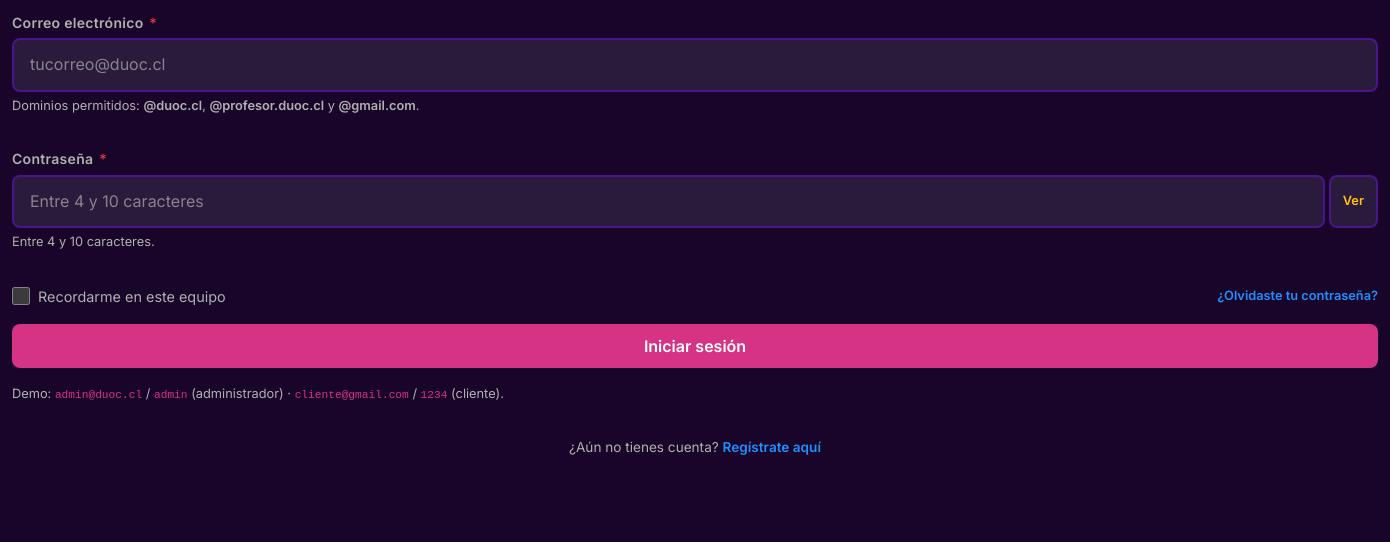
Test case: <FormularioLogin /> › EVENTOS: credenciales incorrectas muestran "Credenciales inválidas." y no abren sesión
The image size is (1390, 542).
Type "admin@duoc.cl" into the field labelled "Correo electrónico *" at [695, 65], box [12,38,1378,92]
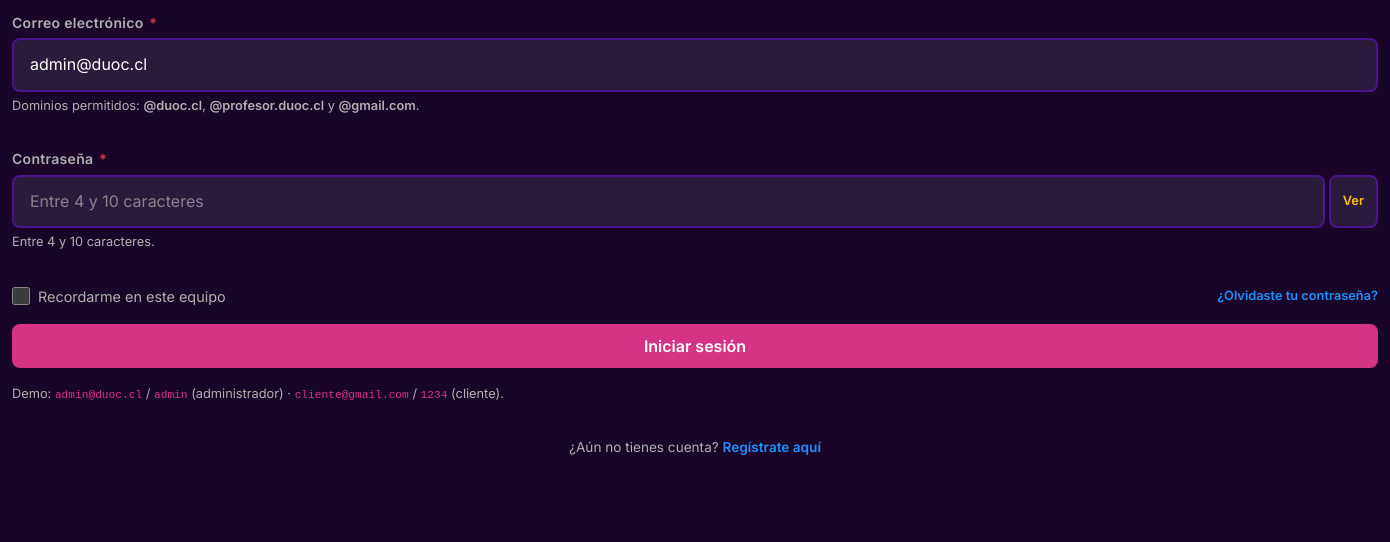
Type "mala1" into the password field labelled "Contraseña *" at [668, 202], box [12,175,1325,228]
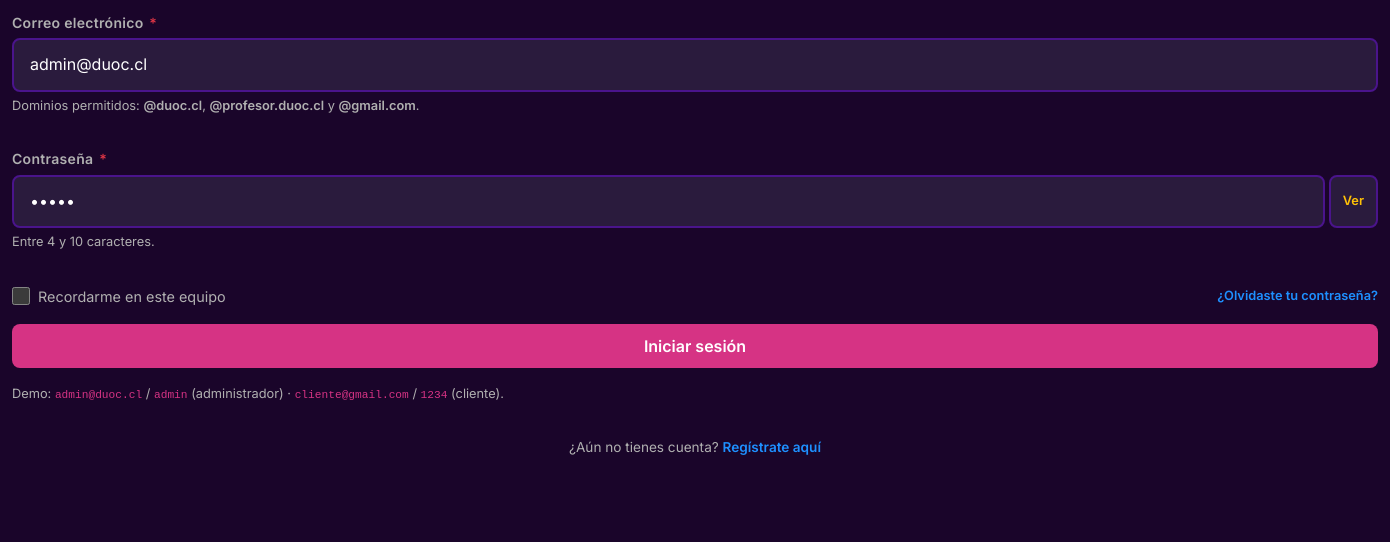
Click the button "Iniciar sesión" at [695, 346], box [12,324,1378,368]
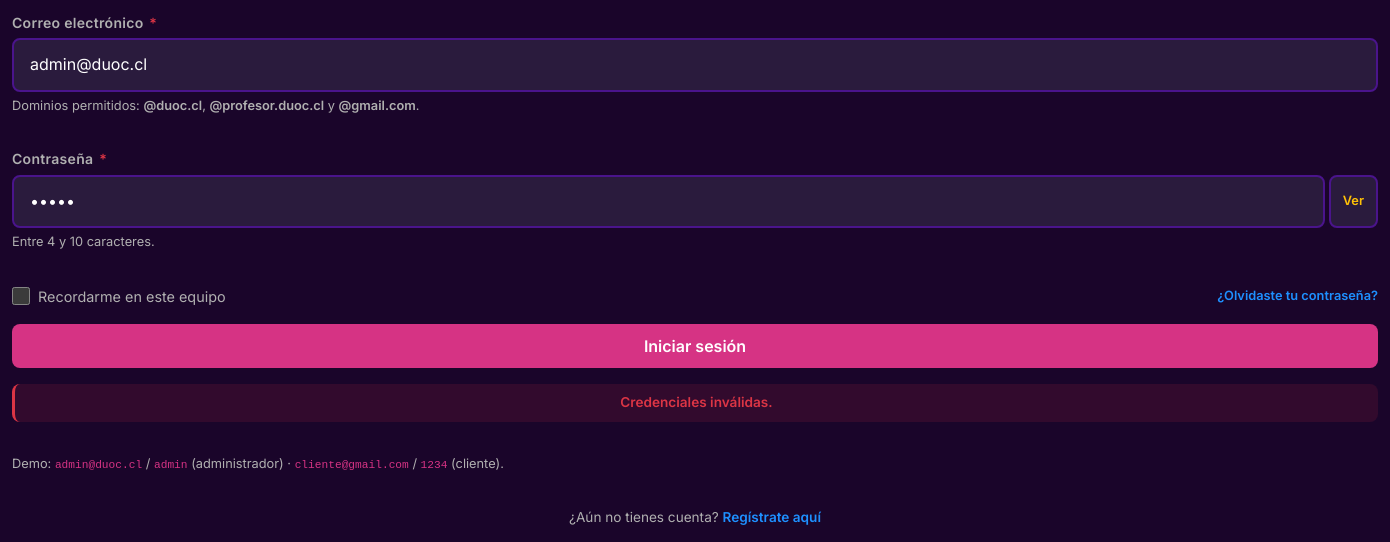
Now the text "Credenciales inválidas." is shown, box [12,384,1378,422]
